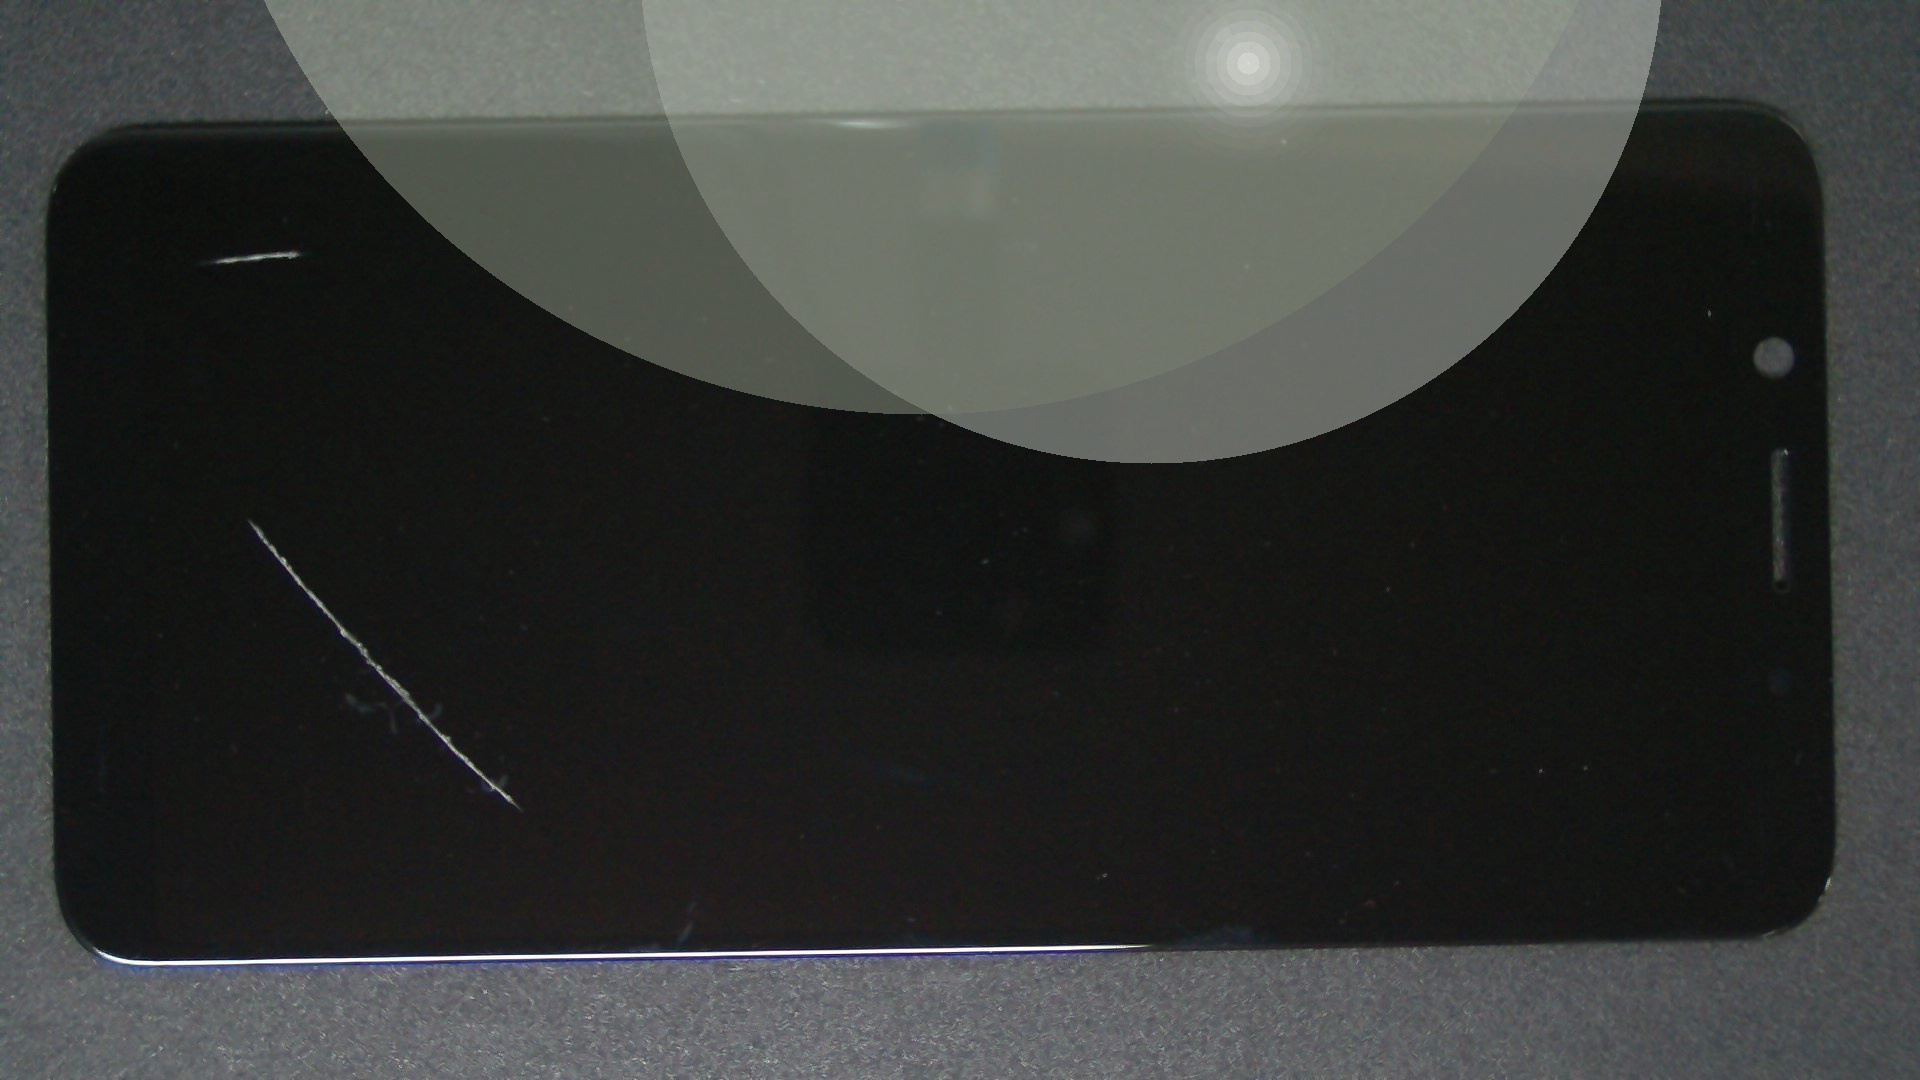oil: (124, 258, 372, 775), (145, 125, 434, 377)
